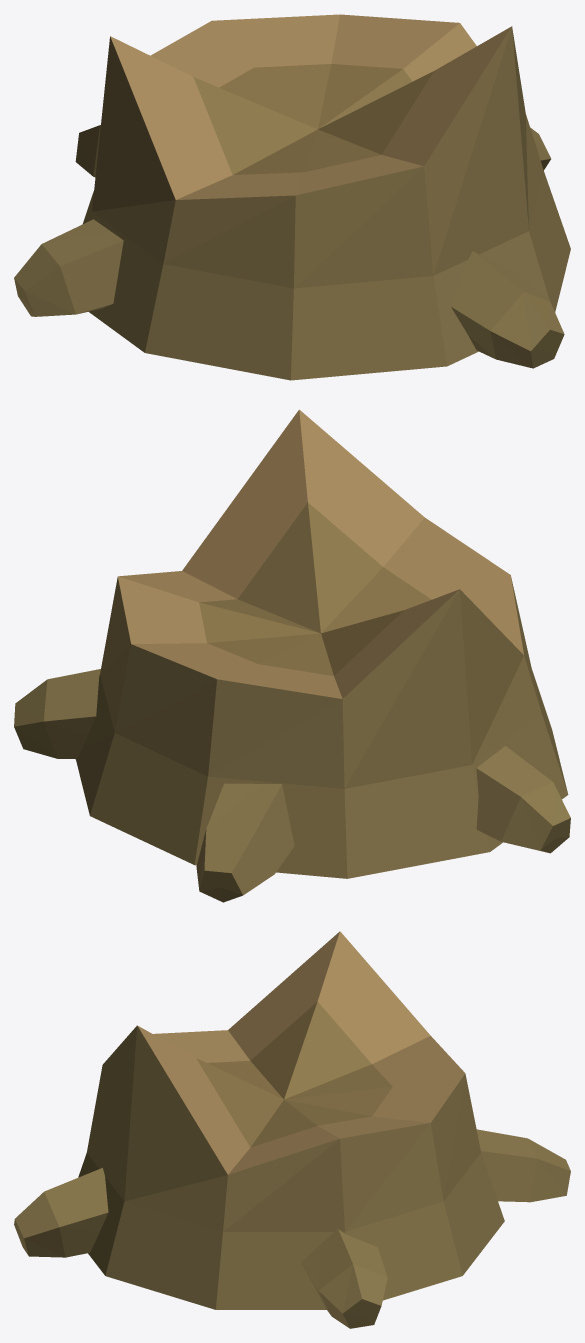
File: stump_smashed_gauranlen.obj
3 renders of one model, top to bottom at view 1: azimuth 30°, elevation 25°; view 2: azimuth 150°, elevation 25°; view 3: azimuth 270°, elevation 25°, orthographic. The views are drawn at different scales.
Parts seen in each view (by area): view 1: stump_smashed_gauranlen; view 2: stump_smashed_gauranlen; view 3: stump_smashed_gauranlen.
Boxes of the visible parts, bbox=[...] form: stump_smashed_gauranlen: bbox=[14, 14, 570, 380]; stump_smashed_gauranlen: bbox=[14, 409, 570, 902]; stump_smashed_gauranlen: bbox=[14, 931, 570, 1328].
Size of the model in its own units: 0.6778 by 0.337 by 0.7061.
